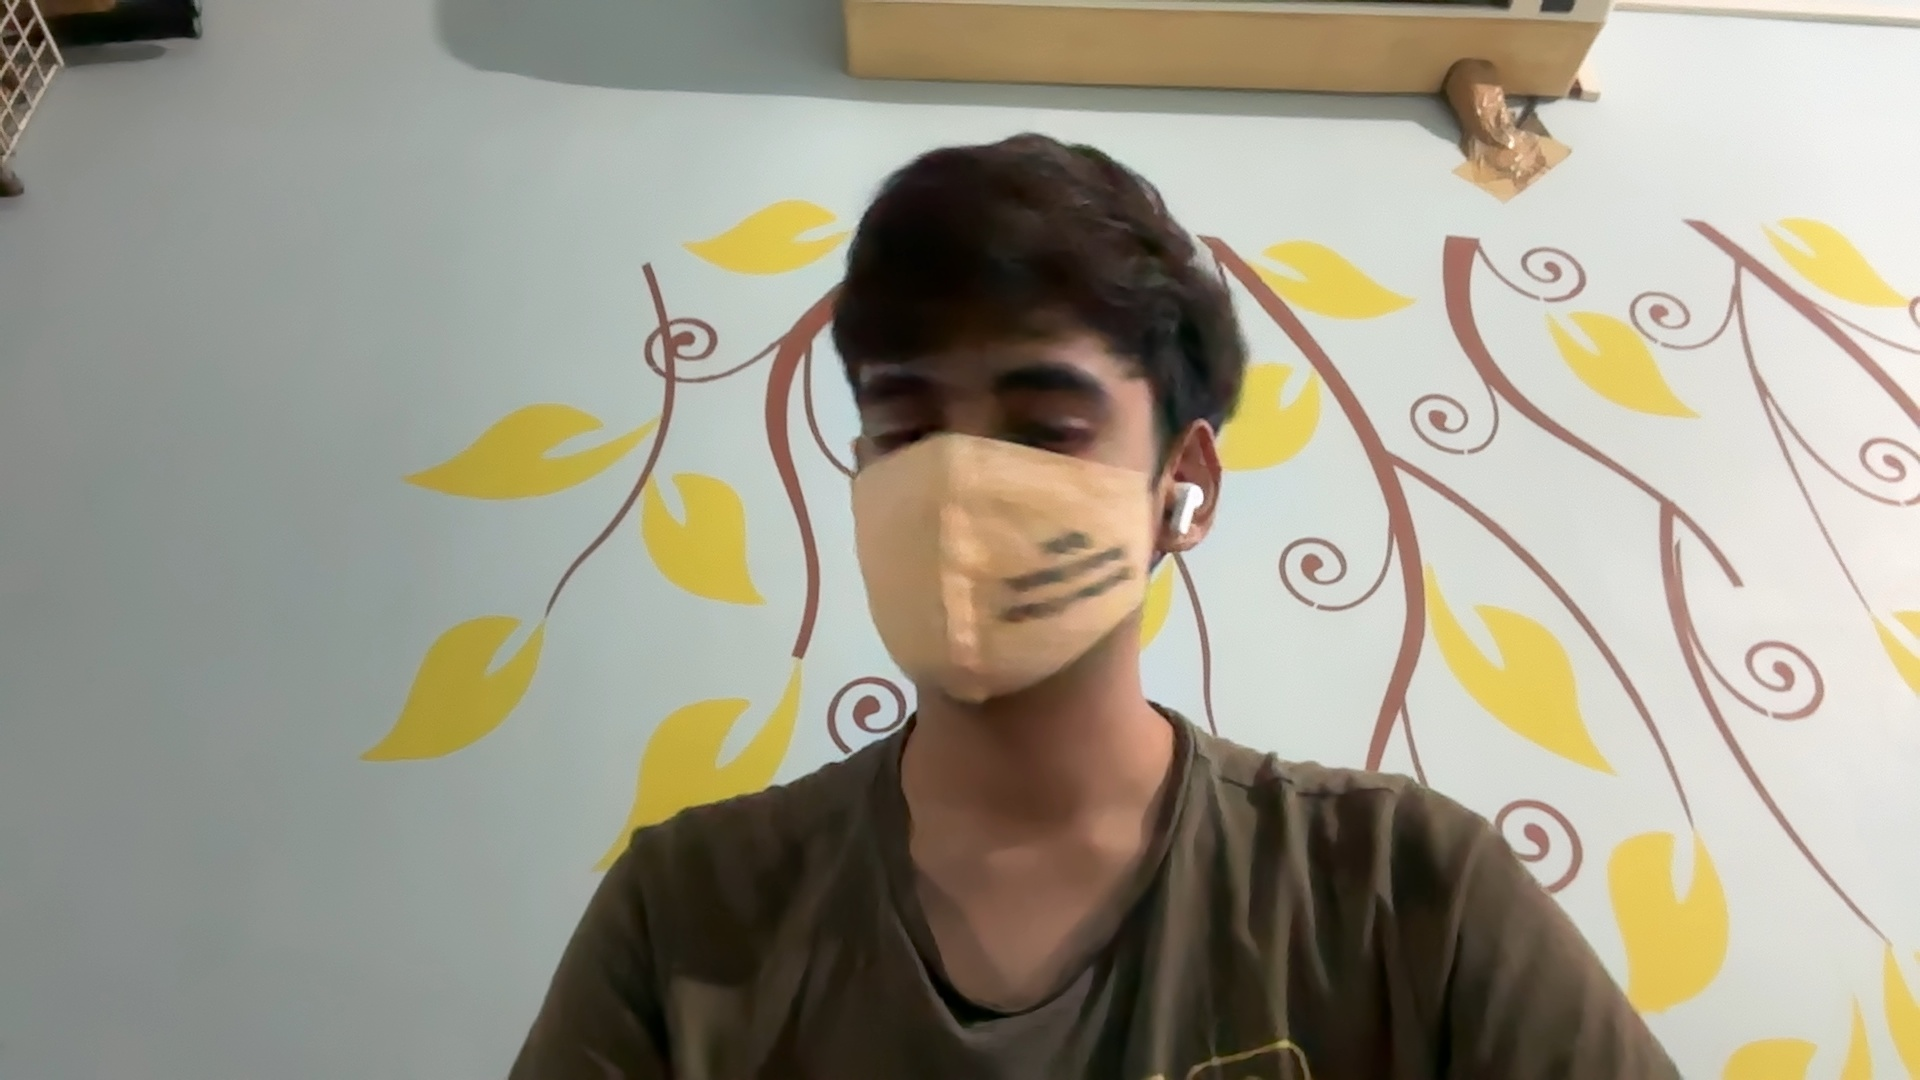Mask: (828, 442, 1165, 709)
